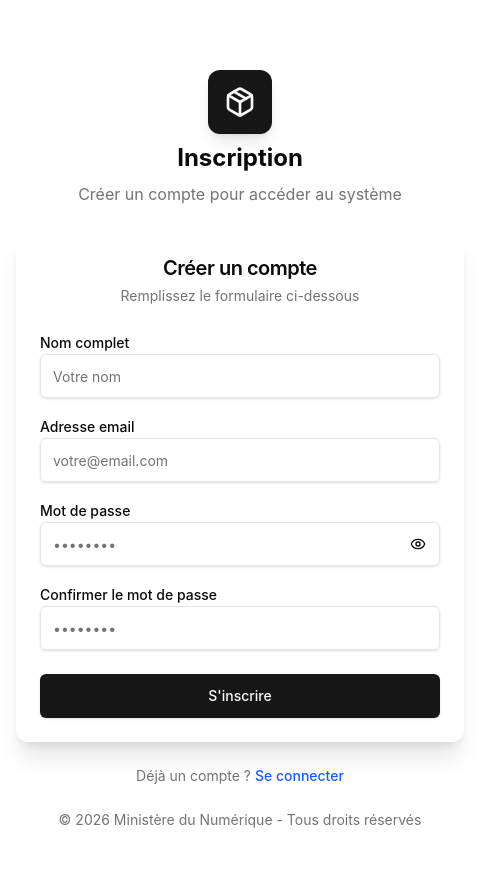
Test: Register Component › shows validation error for invalid email and weak password
Step 1. Type "Jean" into the field labelled "Nom complet" → (240,376), box x1=40 y1=354 x2=440 y2=398
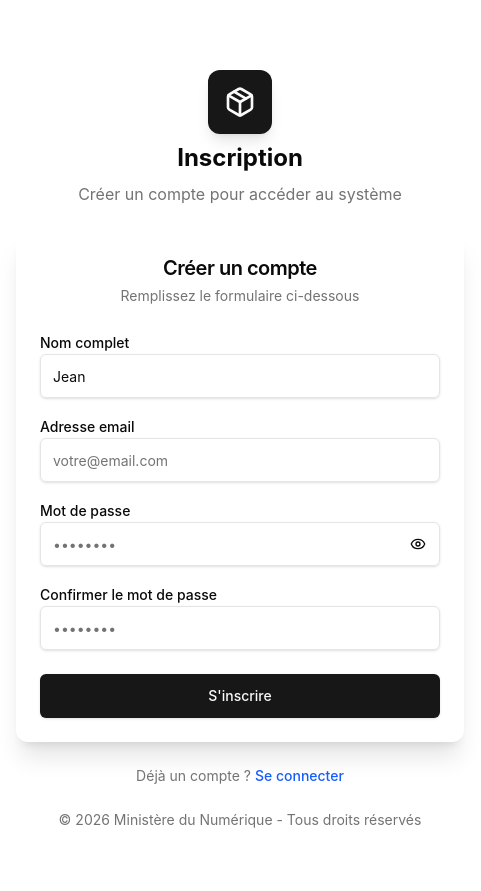
Step 2. Type "invalid-email" into the field labelled "Adresse email" → (240,460), box x1=40 y1=438 x2=440 y2=482
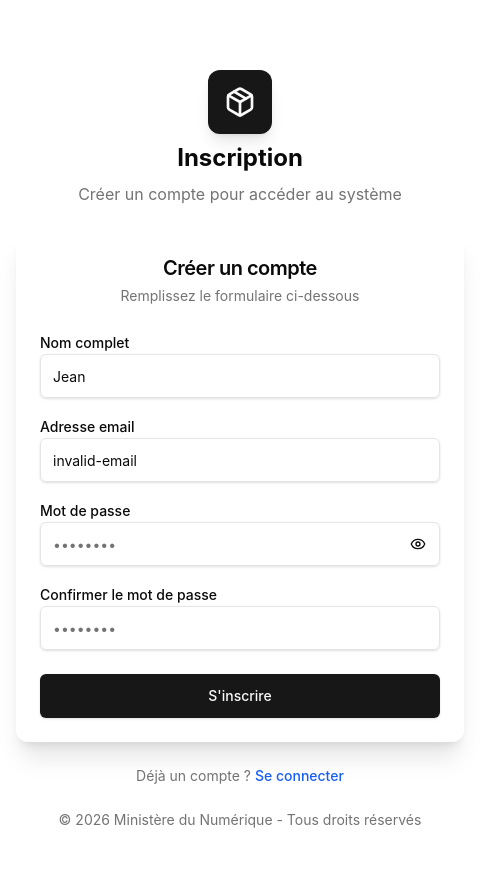
Step 3. Type "weak" into the password field labelled "Mot de passe" → (240,544), box x1=40 y1=522 x2=440 y2=566
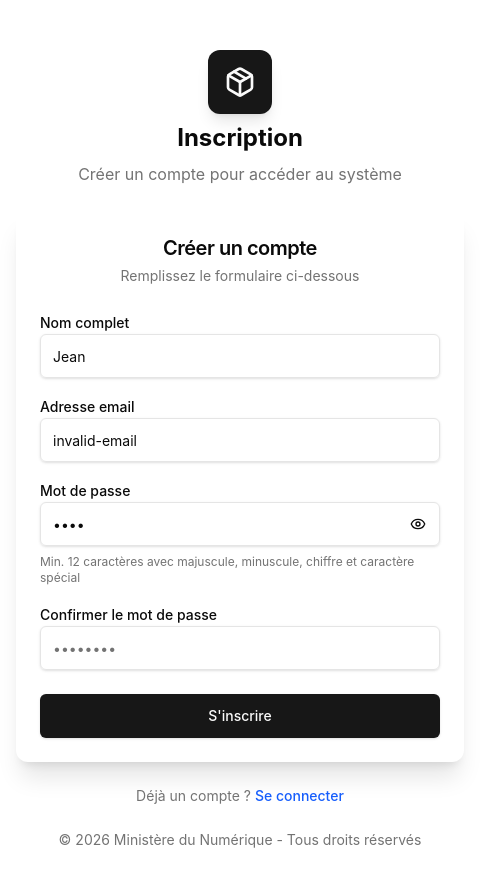
Step 4. Submit the form named "S'inscrire", box x1=16 y1=310 x2=464 y2=762
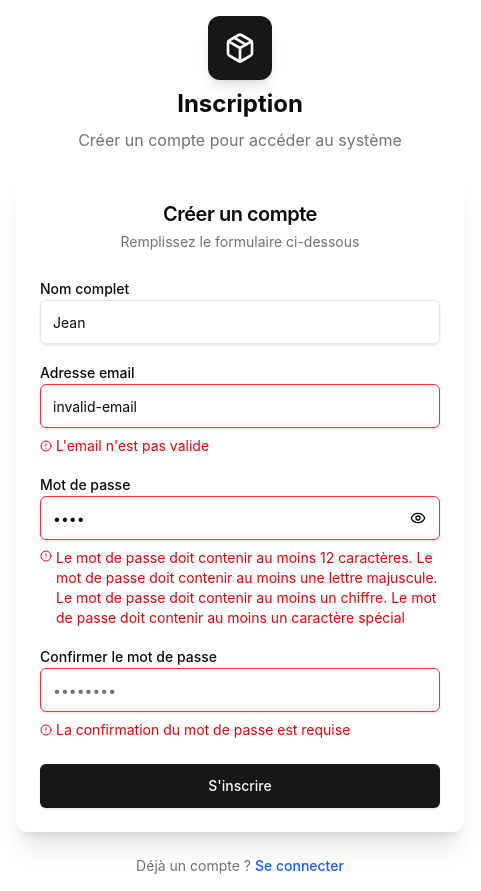
Check: the text "L'email n'est pas valide" is shown, box x1=40 y1=437 x2=209 y2=454
Check: the text "Le mot de passe doit contenir au moins 12 caractères" is shown, box x1=56 y1=549 x2=438 y2=626
